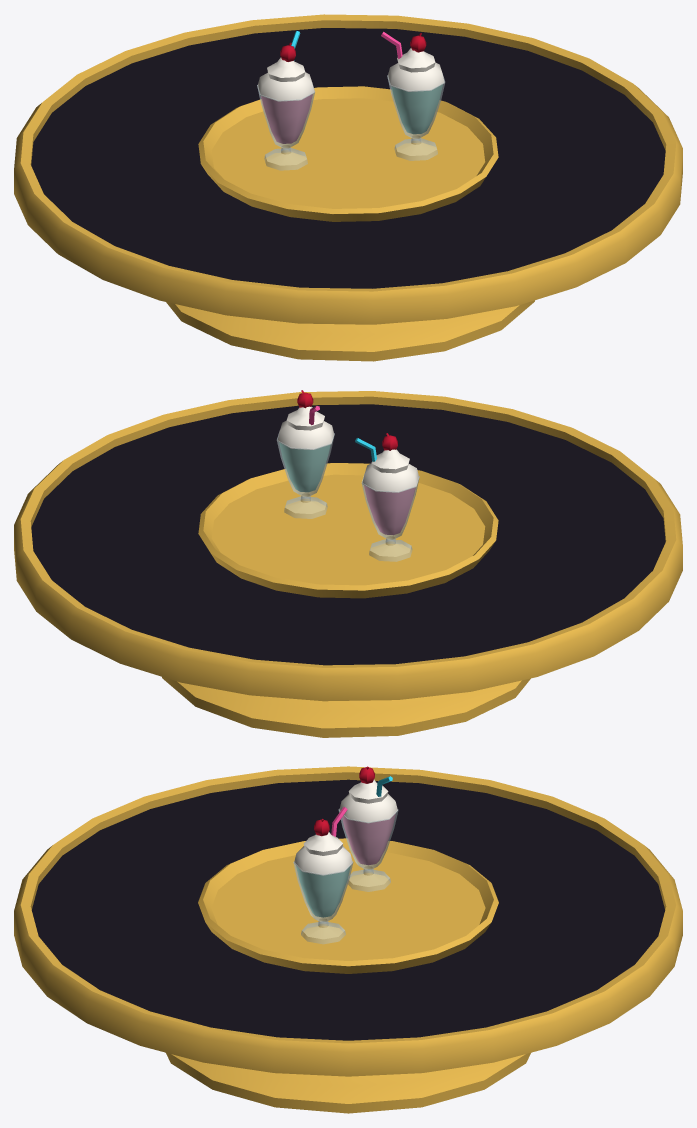
Rendered from Lobby_GoldCoffeeTable.fbx.
The picture shows the model from 3 angles, top to bottom: view 1: azimuth 30°, elevation 25°; view 2: azimuth 150°, elevation 25°; view 3: azimuth 270°, elevation 25°; orthographic projection.
Visible parts, largest first — view 1: Top, Gold, Tray, Glasses, Shake2, Shake1, Shake5; view 2: Top, Gold, Tray, Glasses, Shake2, Shake1, Shake5; view 3: Top, Gold, Tray, Glasses, Shake2, Shake5, Shake1.
Boxes of the visible parts, left/top/right/bottom form: Top: left=31, top=28, right=665, bottom=288; Gold: left=14, top=14, right=682, bottom=361; Tray: left=198, top=86, right=498, bottom=221; Glasses: left=257, top=73, right=445, bottom=170; Shake2: left=257, top=48, right=444, bottom=101; Shake1: left=261, top=94, right=312, bottom=143; Shake5: left=391, top=84, right=442, bottom=134; Top: left=31, top=404, right=665, bottom=665; Gold: left=14, top=391, right=682, bottom=737; Tray: left=198, top=463, right=498, bottom=598; Glasses: left=276, top=431, right=419, bottom=561; Shake2: left=277, top=406, right=419, bottom=492; Shake1: left=364, top=485, right=415, bottom=534; Shake5: left=279, top=442, right=330, bottom=492; Top: left=31, top=779, right=665, bottom=1040; Gold: left=14, top=766, right=682, bottom=1113; Tray: left=198, top=838, right=498, bottom=973; Glasses: left=293, top=809, right=398, bottom=944; Shake2: left=294, top=779, right=397, bottom=875; Shake5: left=296, top=866, right=350, bottom=917; Shake1: left=342, top=813, right=395, bottom=865.
Bounding box in the file's own units: 400 × 160 × 400.
